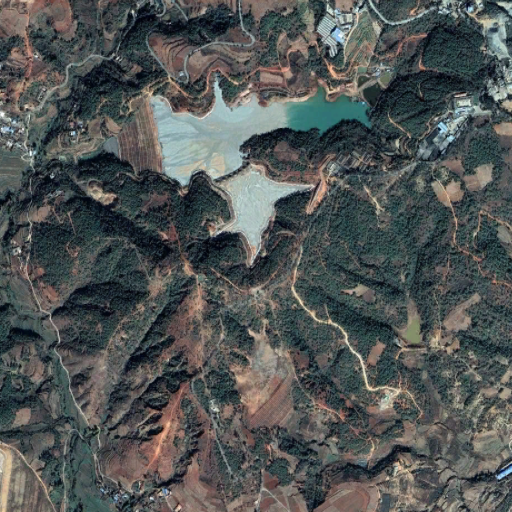tp: (89, 76, 380, 262)
